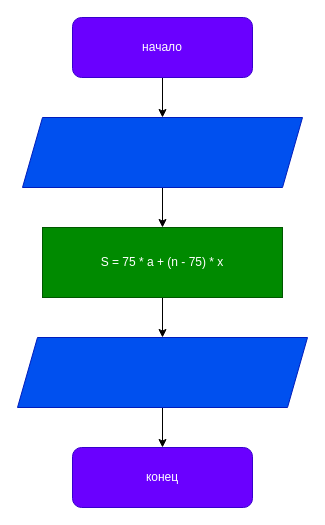
Some shapes in this 325 by 525 pixel diagram are drawn without their labels. The shapes that lost their labels are listed below. From the top down, each one's centre as x and y in pixels, then its label:
At pixel 162 152: "задать значения:a =10x = 15n = 113".
At pixel 162 372: "вывести: n, a, x, S".
